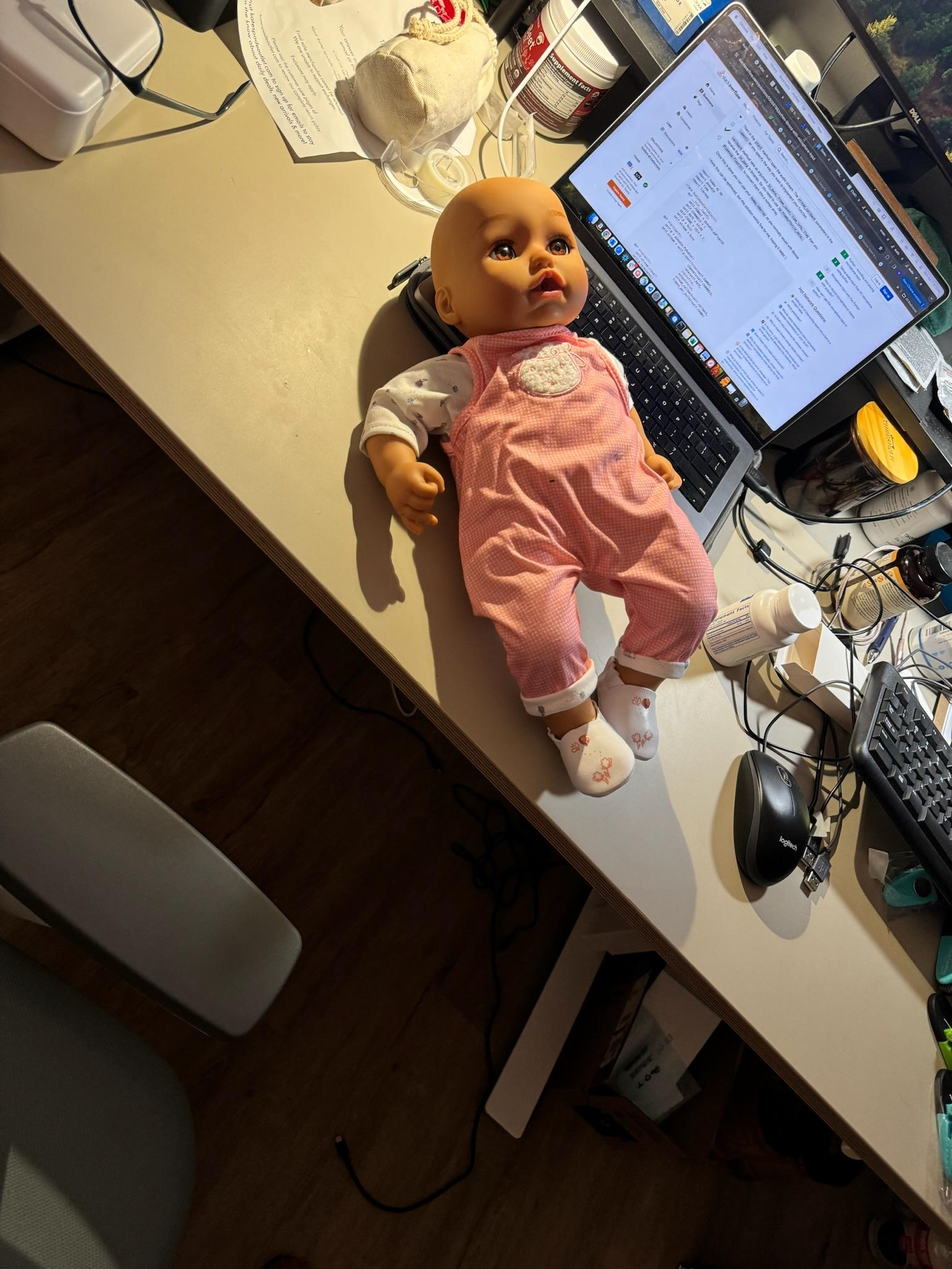baby: (343, 161, 750, 791)
